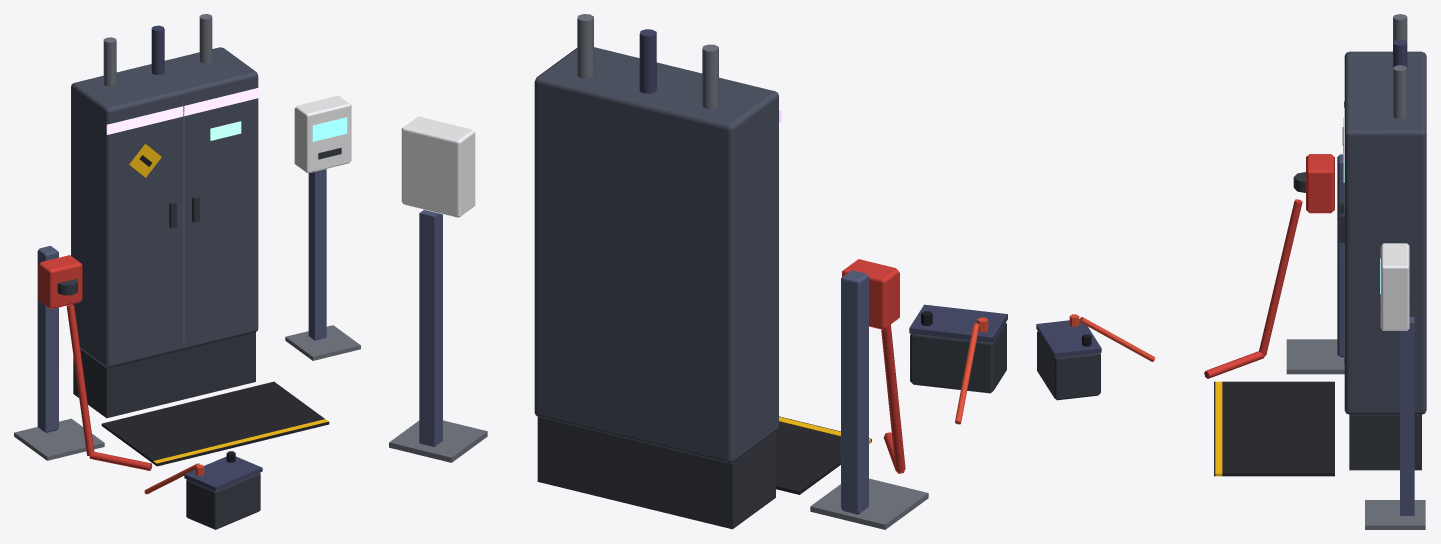
File: station_intake_1.glb
3 renders of one model, left to right at view 1: azimuth 30°, elevation 25°; view 2: azimuth 150°, elevation 25°; view 3: azimuth 270°, elevation 25°, orthographic. The views are drawn at different scales.
Parts seen in each view (by area): view 1: station_intake_1; view 2: station_intake_1; view 3: station_intake_1.
Part boxes in pixels (x1,y1,x2,y2): station_intake_1: (14,14,360,529); station_intake_1: (389,14,1007,529); station_intake_1: (1036,14,1426,529).
Size of the model in its own units: 1.83 by 1.77 by 1.62.
